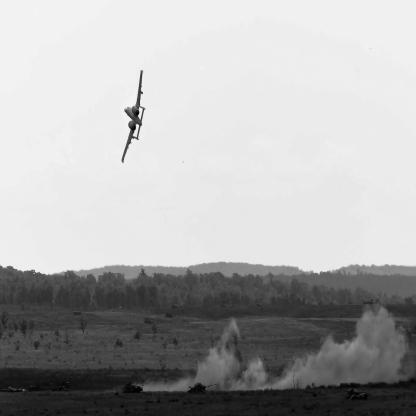A10: (122, 71, 147, 165)
